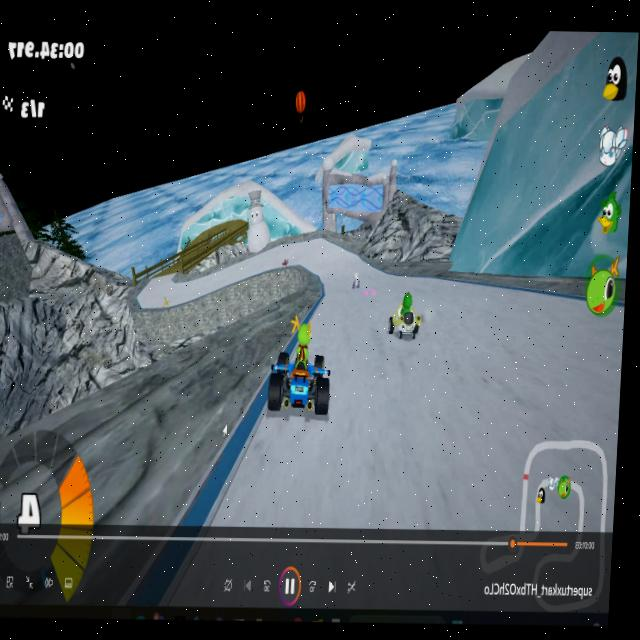enemy_kart: (388, 296, 425, 344), (351, 274, 362, 291), (280, 255, 290, 267)
obstacle: (161, 294, 172, 307)
player_kart: (269, 319, 338, 418)
track: (329, 373, 621, 541), (421, 301, 625, 378), (218, 418, 333, 530), (335, 290, 388, 370), (294, 240, 349, 265), (318, 268, 345, 316), (382, 340, 422, 370), (364, 281, 483, 291), (246, 245, 278, 275), (174, 274, 209, 299), (214, 261, 245, 285), (136, 289, 157, 311), (148, 270, 172, 286), (335, 255, 358, 261)
